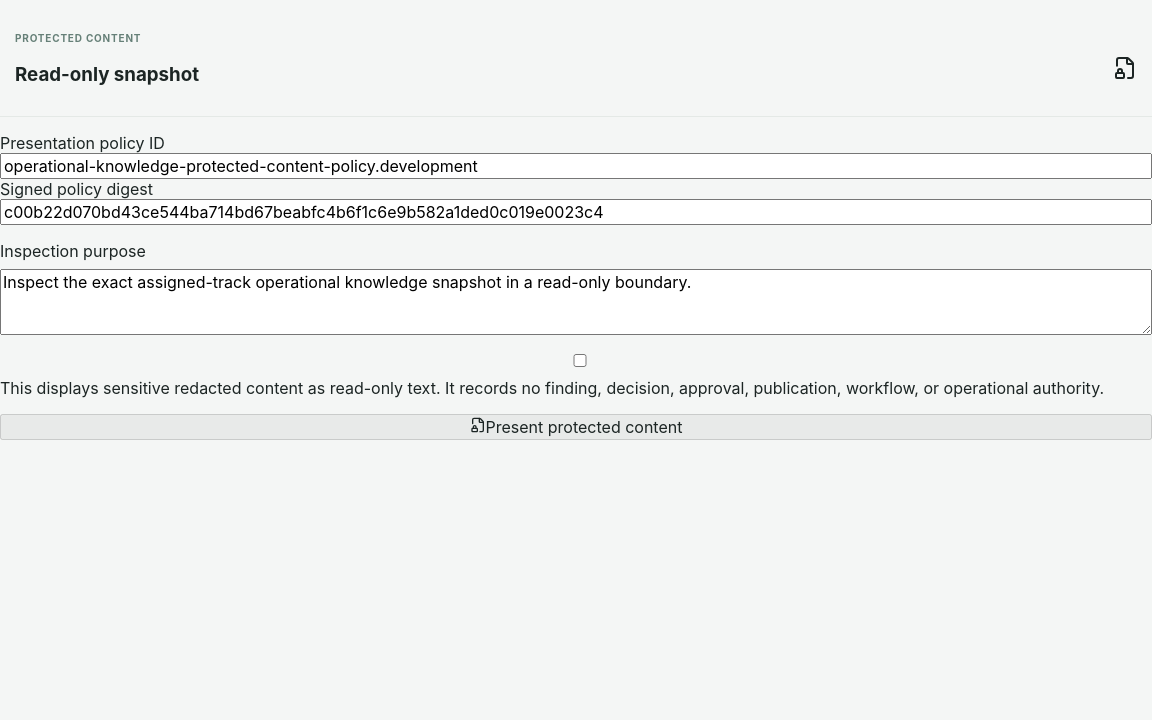
it: ProtectedContentPanel › presents exact-lease content as inert read-only text without review authority
(page scrolled)
What coordinates should you click on to do the following:
click the checkbox
I would click on:
 (578, 361)
Its box is top-left (4, 354), bottom-right (1151, 367).
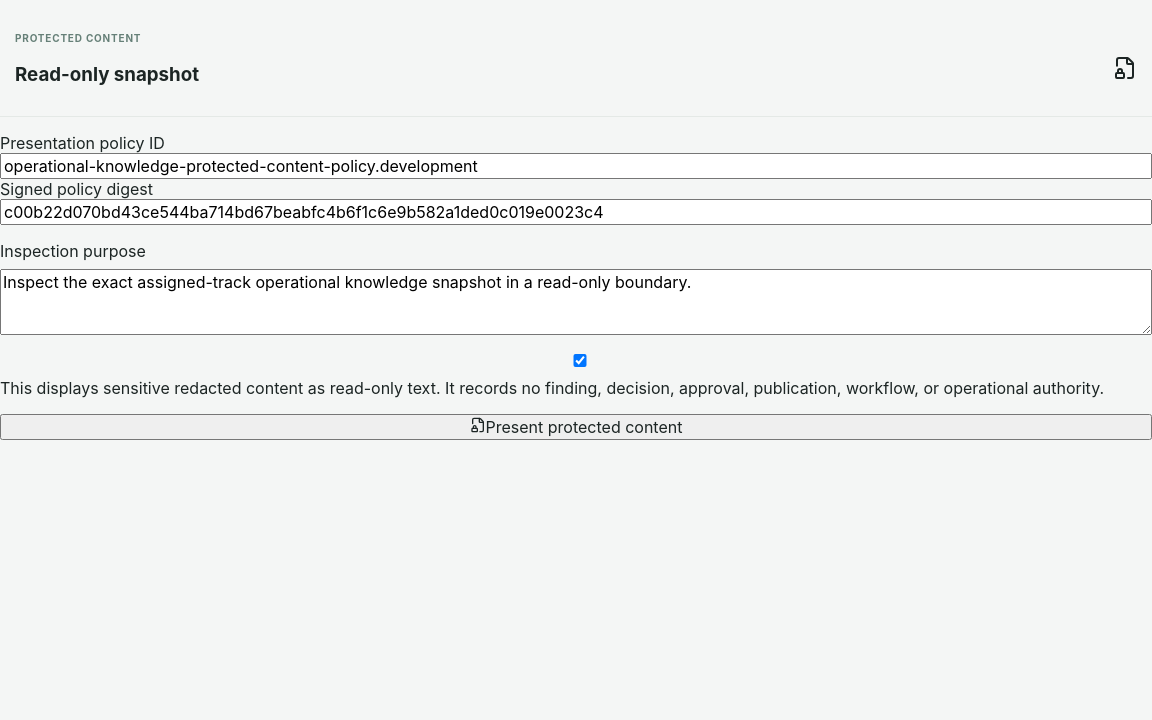
What coordinates should you click on to do the following:
click the button "Present protected content"
I would click on:
 (576, 427)
Its box is top-left (0, 414), bottom-right (1151, 440).
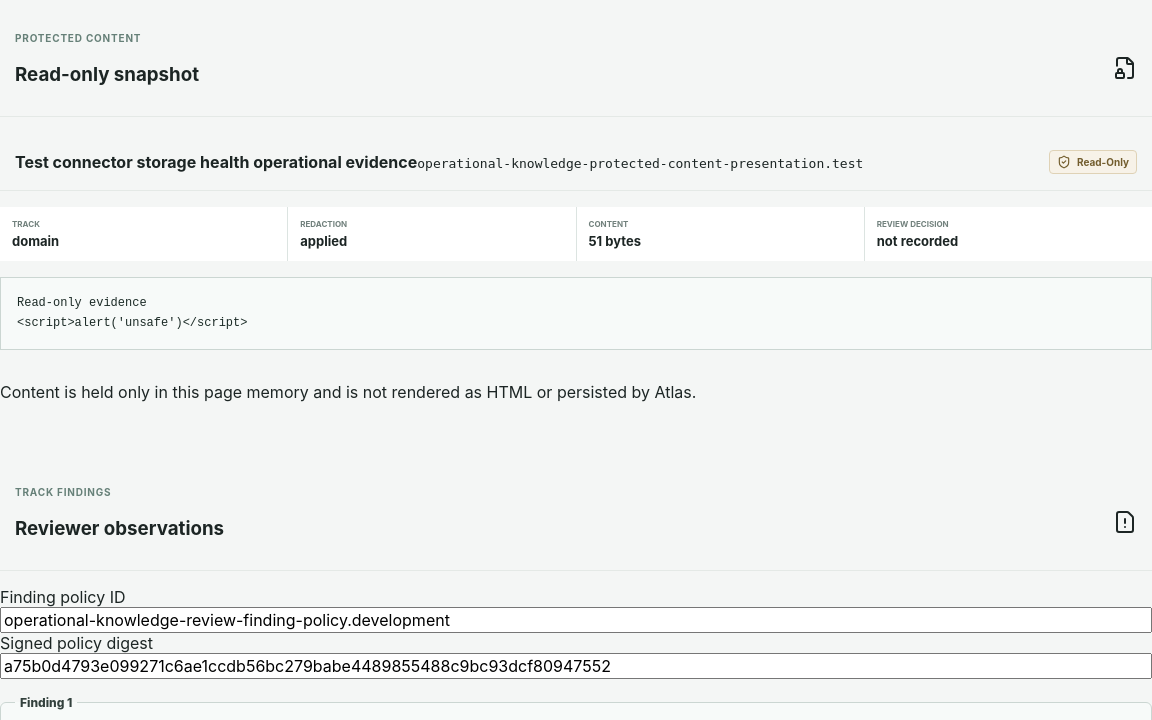
Check: the text "read-only" is shown, box top-left (1049, 150), bottom-right (1137, 174)
Check: the text "not recorded" is shown, box top-left (877, 233), bottom-right (958, 249)
